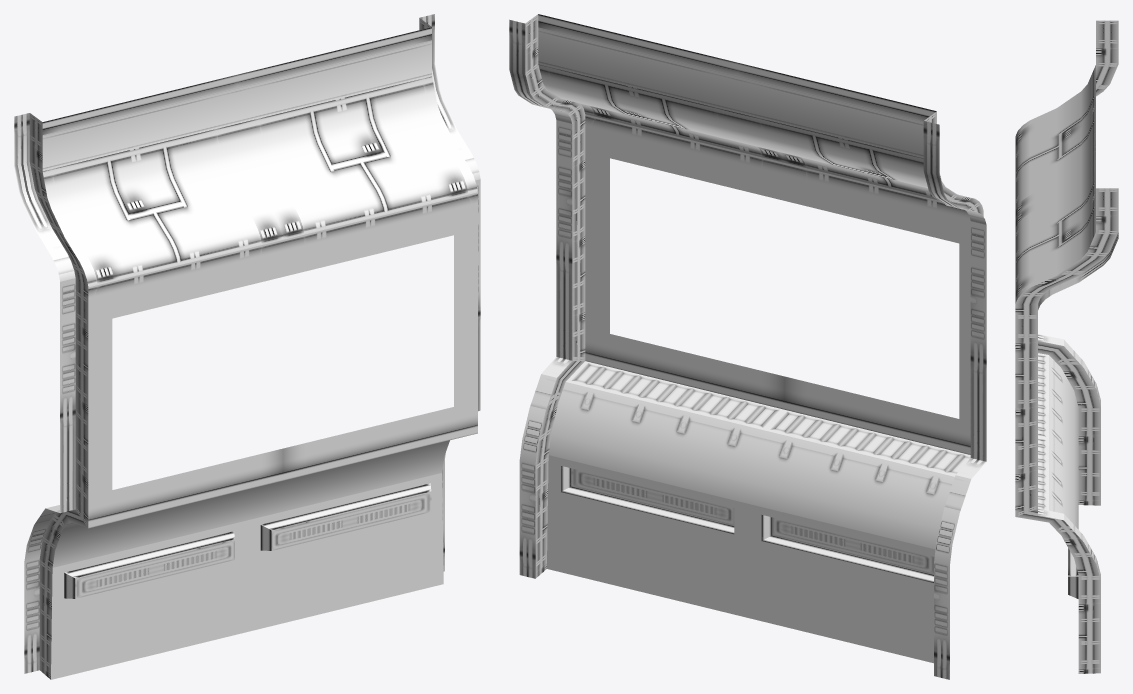
The model's file is Wall_Window.obj.
The picture shows the model from 3 angles, left to right: view 1: azimuth 30°, elevation 25°; view 2: azimuth 150°, elevation 25°; view 3: azimuth 270°, elevation 25°; orthographic projection. The views are drawn at different scales.
Parts seen in each view (by area): view 1: Plane.037_Plane.043; view 2: Plane.037_Plane.043; view 3: Plane.037_Plane.043.
Boxes of the visible parts, x1,y1,x2,y2 form: Plane.037_Plane.043: [14, 14, 480, 679]; Plane.037_Plane.043: [509, 14, 986, 679]; Plane.037_Plane.043: [1015, 20, 1118, 673].
Size of the model in its own units: 2 by 2.5 by 0.483.
